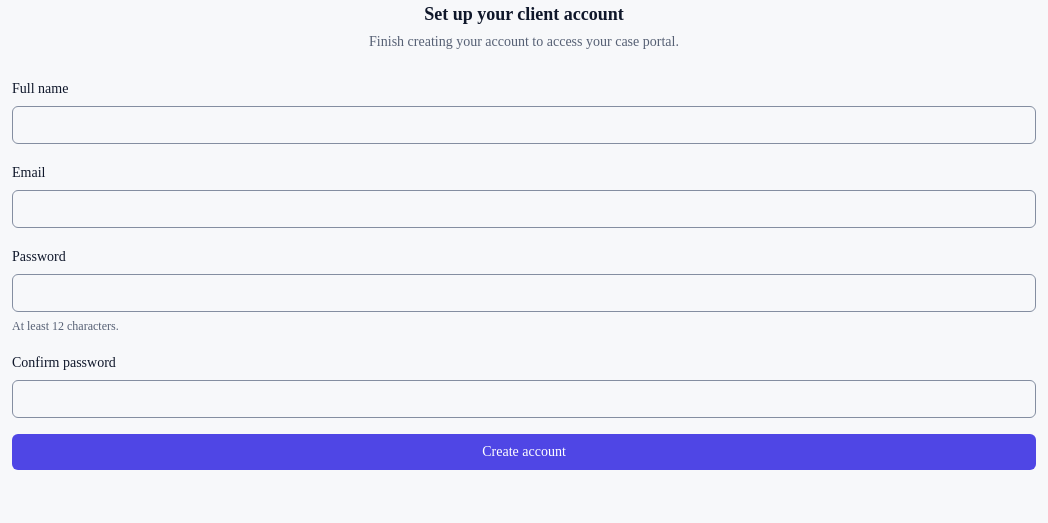
ClientSignUpForm behavior preserved › surfaces the server's error message on failure
This screenshot has width=1048, height=523.
Type "Test Client" into the field labelled "Full name". click: (524, 125)
box: [12,106,1036,144]
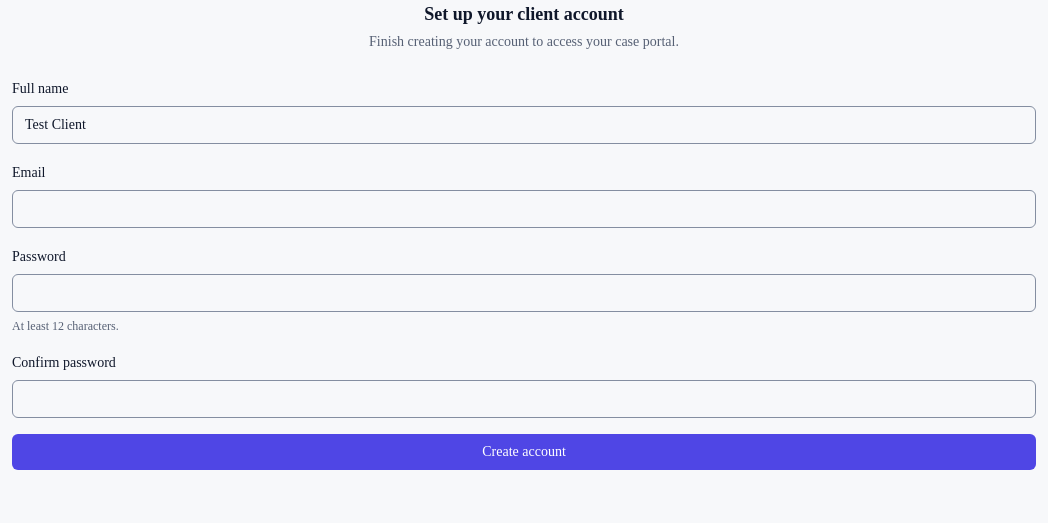
Type "client@example.com" into the field labelled "Email". click: (524, 209)
box: [12,190,1036,228]
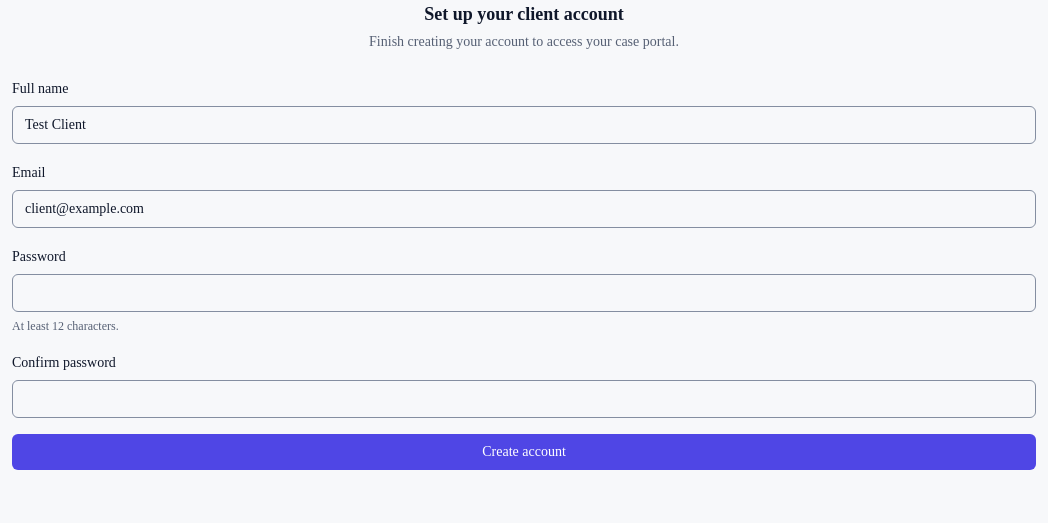
Type "a-long-enough-pass-1" into the password field labelled "Password". click: (524, 293)
box: [12,274,1036,312]
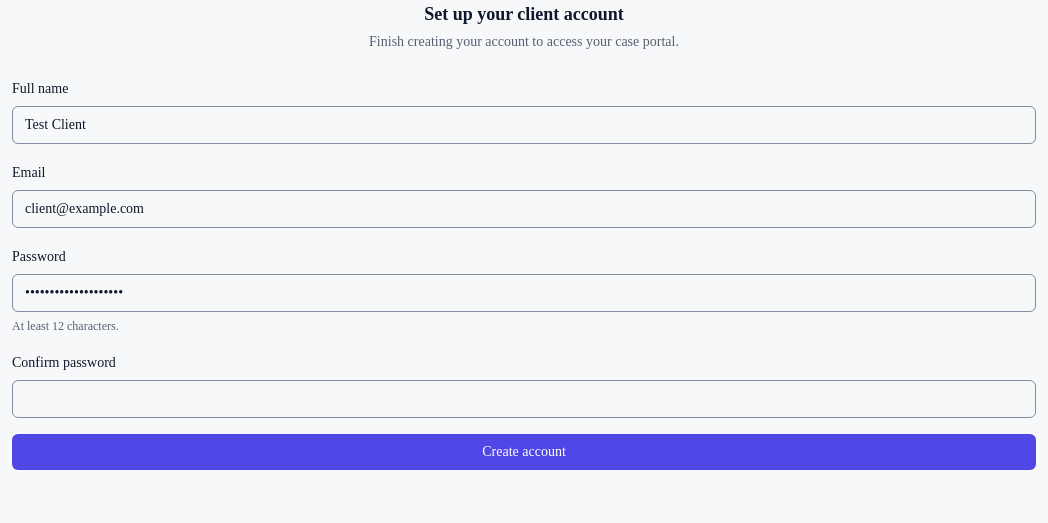
Type "a-long-enough-pass-1" into the password field labelled "Confirm password". click: (524, 399)
box: [12,380,1036,418]
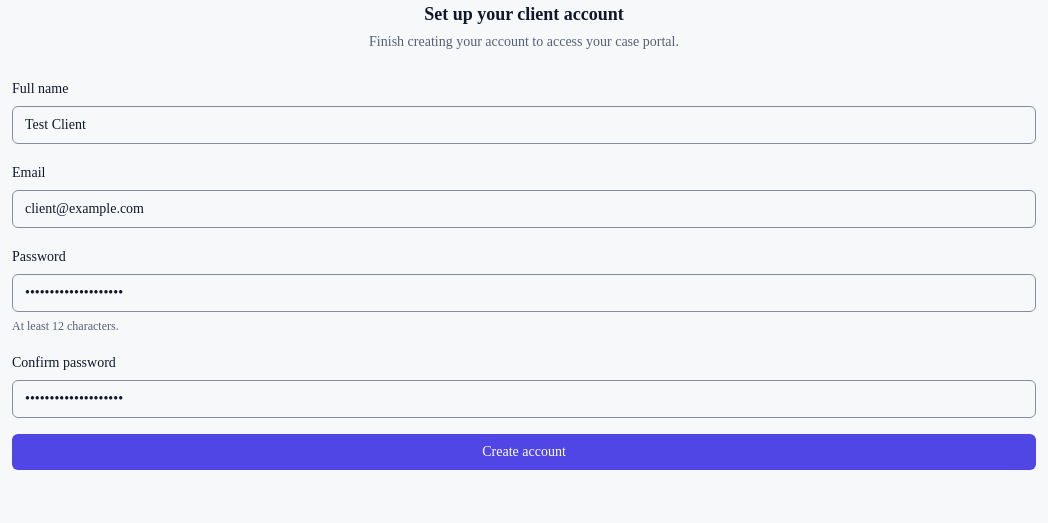
Click the button "Create account". click: (524, 452)
box: [12,434,1036,470]
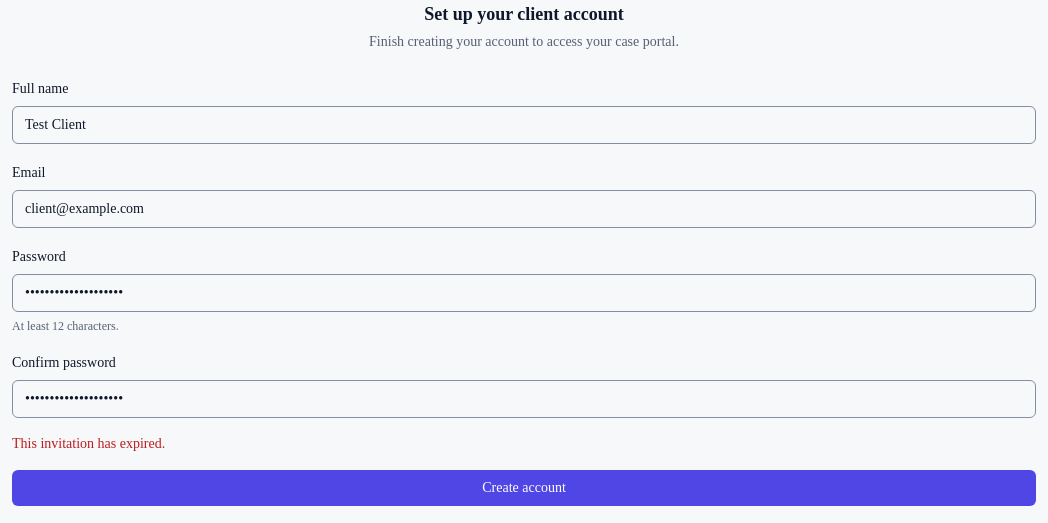
Expected: the text "This invitation has expired." is shown, [12,436,165,451]
